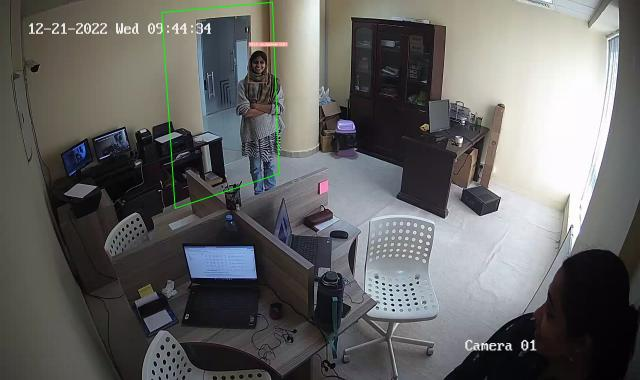no_hairnet: (530, 254, 622, 356), (250, 52, 268, 76)
